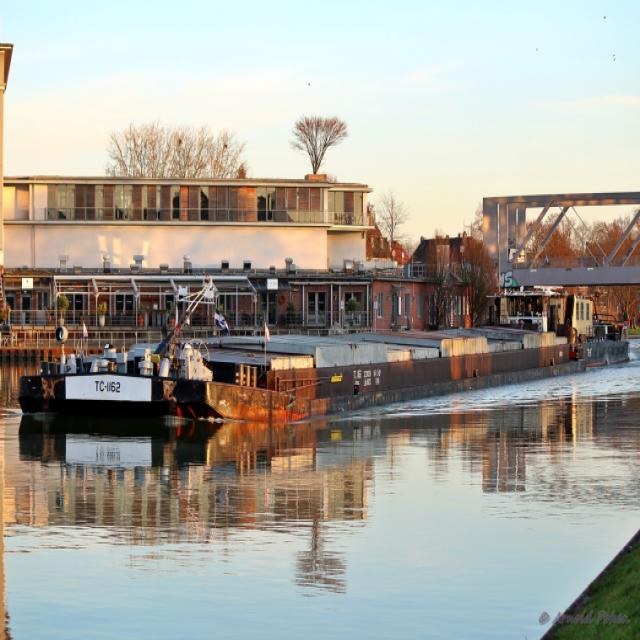tugboat: (474, 284, 635, 383)
